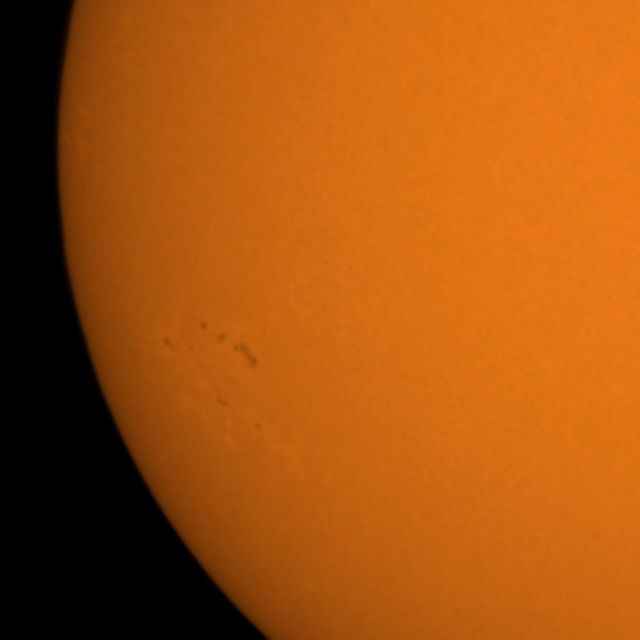sunspot: (231, 340, 260, 370), (161, 334, 197, 354), (161, 335, 176, 352), (214, 396, 231, 410), (253, 421, 263, 432), (199, 320, 208, 332), (188, 344, 195, 352)
